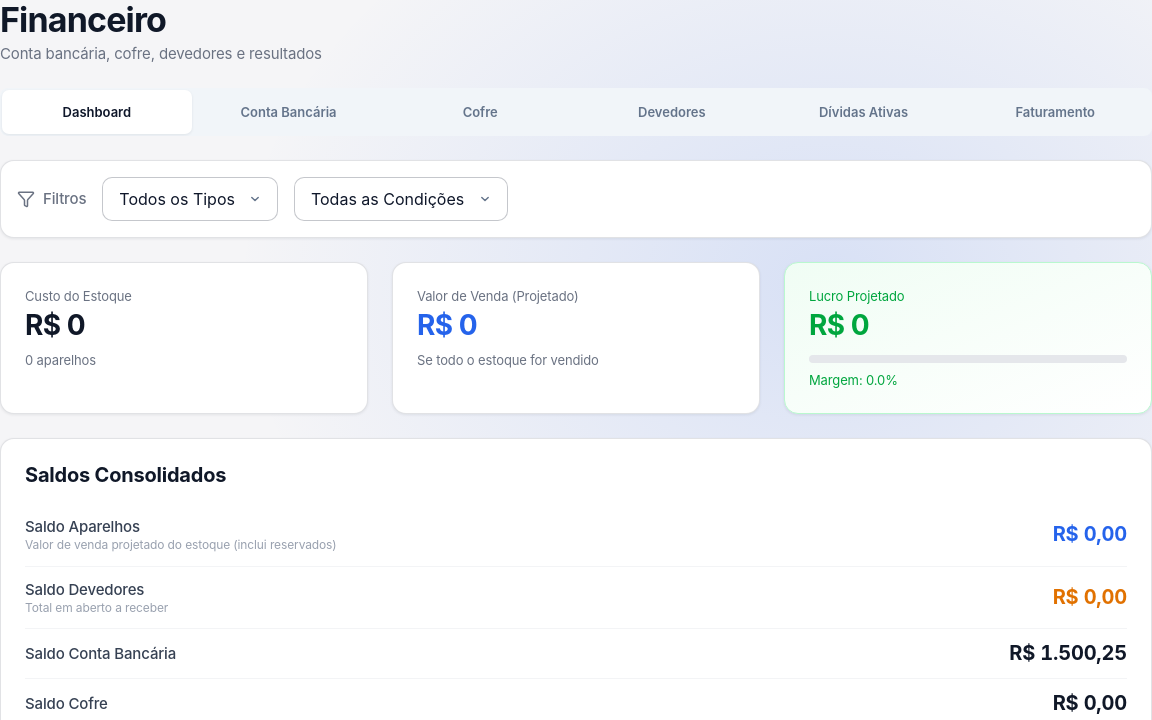
Finance account integrity guards › keeps cents in the summary cards instead of truncating them
This screenshot has width=1152, height=720.
Click the button with test id "finance-tab-bank".
click(289, 112)  # box [194,90,383,134]
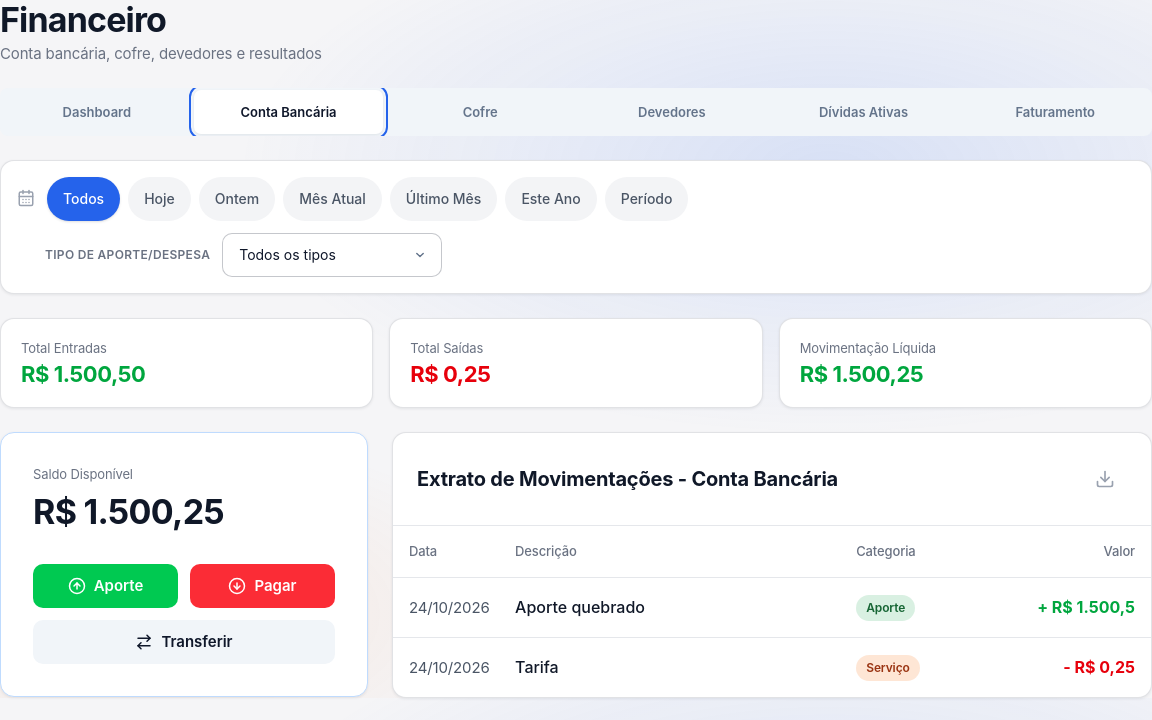
Check: the text "R$ 1.500,25" is shown, box [800,361,923,387]
Check: the text "R$ 1.500,50" is shown, box [21,361,145,387]
Check: the text "R$ 0,25" is shown, box [410,361,490,387]
